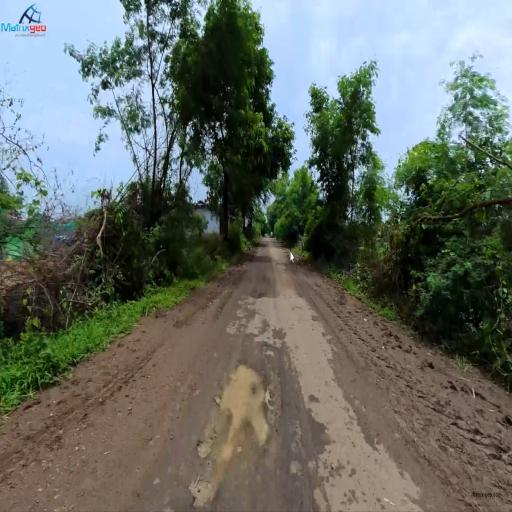pothole: (223, 339, 287, 465)
